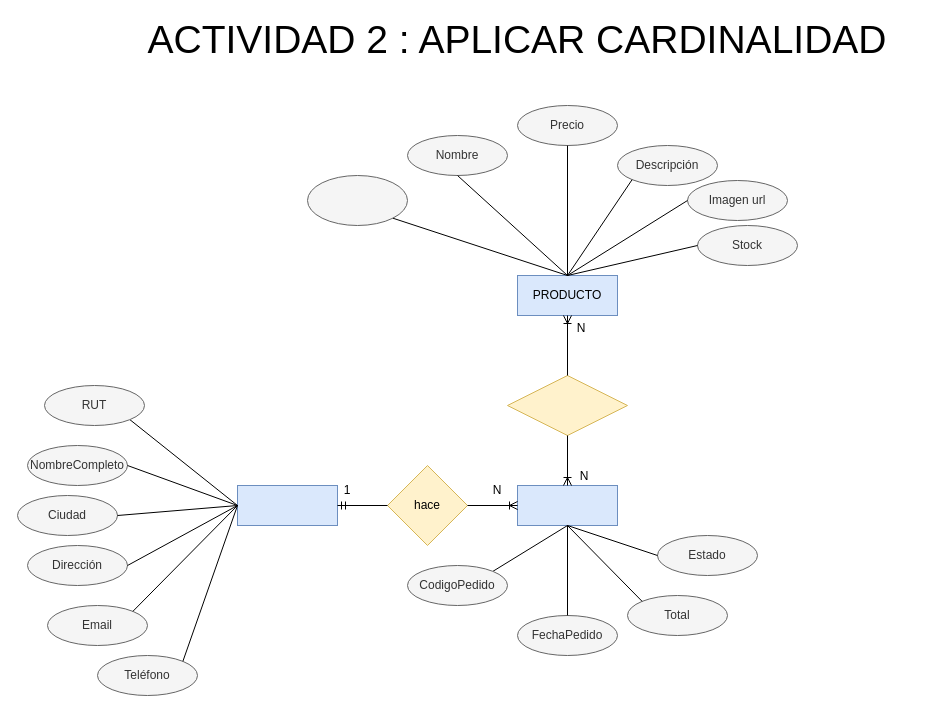
The diagram is 945 pixels wide and 713 high, and some of its shapes have lost their labels. The centre of each missing label's shape, as x and y in pixels:
"CLIENTE" belongs at pixel 287 505.
"Código_producto" belongs at pixel 357 200.
"PEDIDO" belongs at pixel 567 505.
"tiene" belongs at pixel 567 405.
